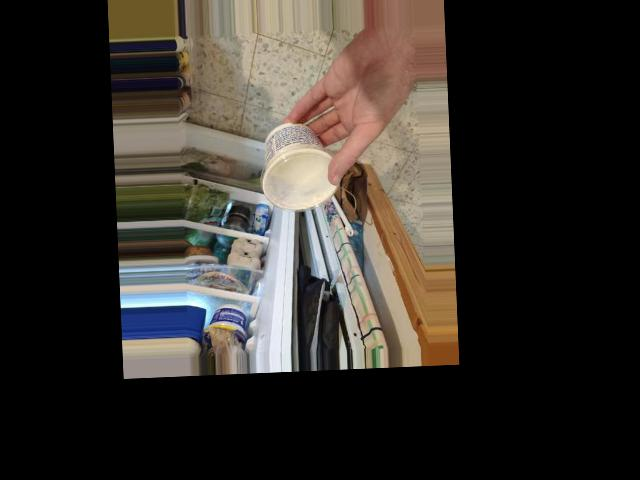cotage: (264, 120, 337, 207)
